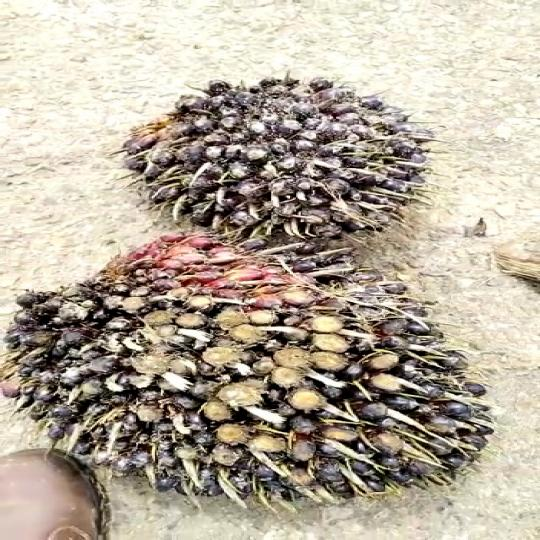mentah: (1, 242, 540, 521), (142, 63, 475, 247)
